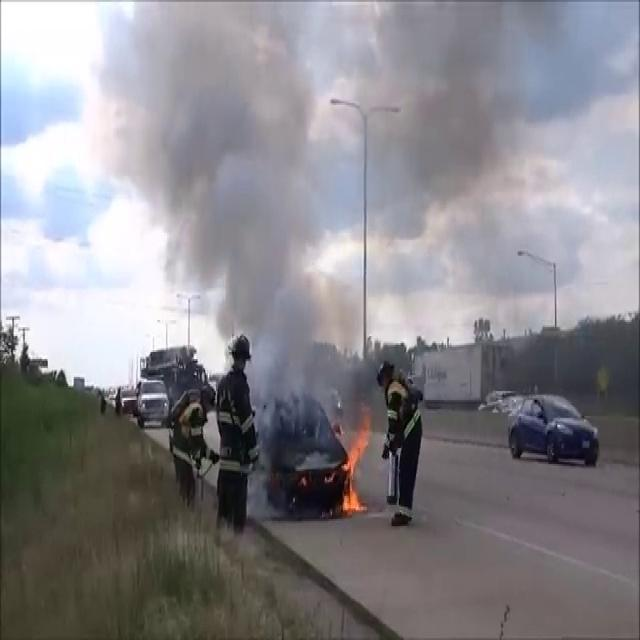Fire: (338, 407, 374, 514)
Smoke: (114, 1, 354, 390)
